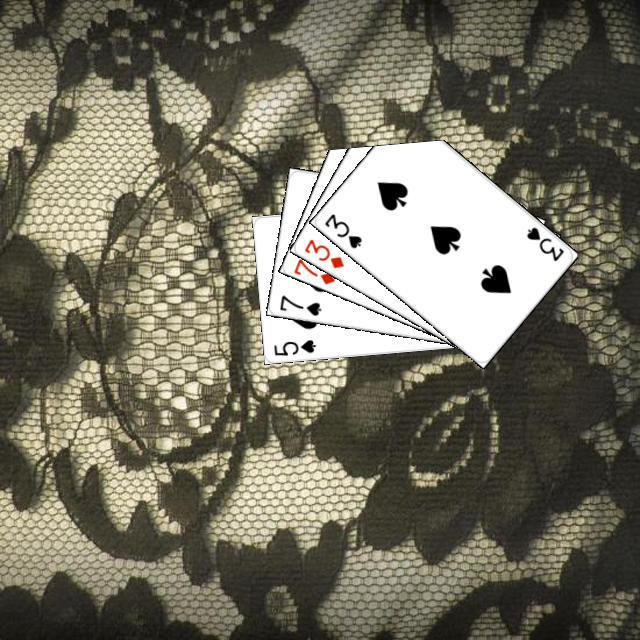3d: (299, 234, 346, 270)
3s: (319, 209, 364, 250), (522, 222, 566, 263)
5s: (269, 335, 317, 357)
7d: (289, 254, 337, 286)
7s: (275, 290, 323, 317)
